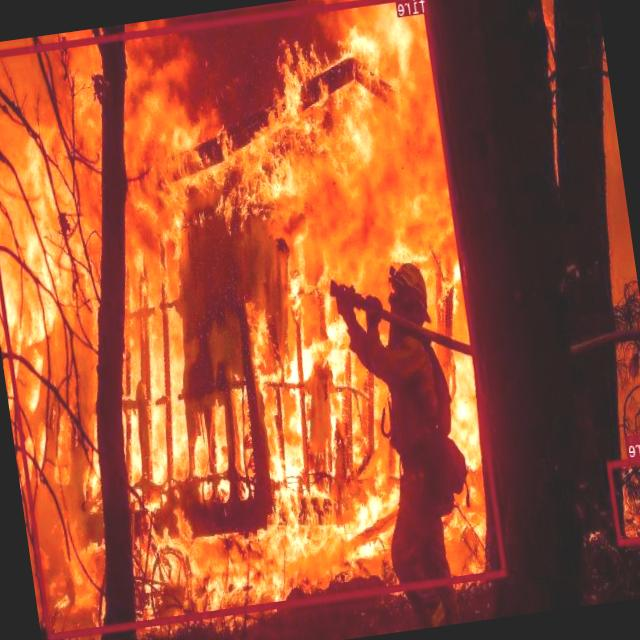fire: (0, 0, 507, 638), (607, 454, 640, 545)
